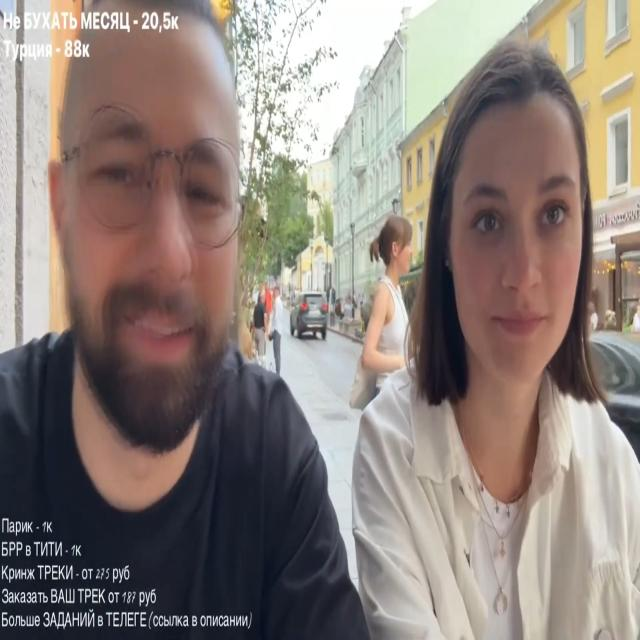Person: (0, 46, 355, 640), (344, 36, 640, 640), (352, 216, 419, 416)
